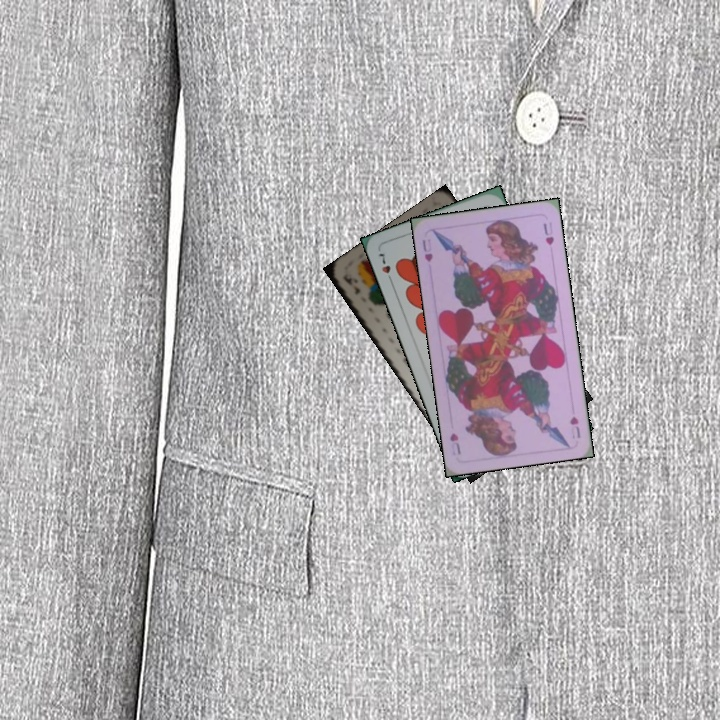EK: (339, 269, 363, 297)
H7: (374, 249, 396, 287)
HU: (418, 236, 435, 265), (566, 412, 583, 441)
